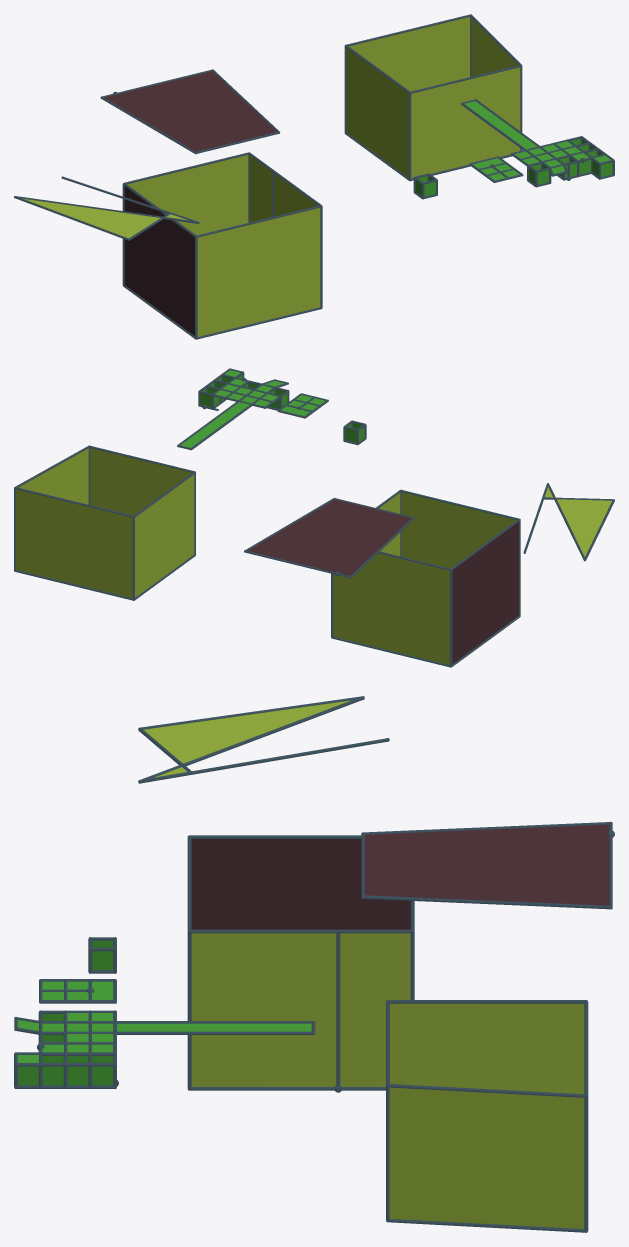
3 views of the same model, one above another, from view 1: azimuth 30°, elevation 25°; view 2: azimuth 150°, elevation 25°; view 3: azimuth 270°, elevation 25° (orthographic). The views are drawn at different scales.
Visible parts, largest first — view 1: object 1, Bloom3D Lines; view 2: object 1, Bloom3D Lines; view 3: object 1, Bloom3D Lines.
Boxes of the visible parts, x1,y1,x2,y2 form: object 1: (23, 17, 612, 336); Bloom3D Lines: (14, 14, 614, 339); object 1: (16, 370, 611, 664); Bloom3D Lines: (14, 368, 614, 667); object 1: (17, 700, 609, 1228); Bloom3D Lines: (14, 696, 614, 1232).
Size of the model in its own units: 19.08 by 4.66 by 12.12.
